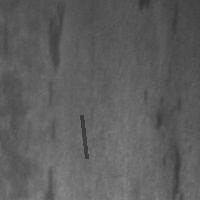inclusion: (147, 86, 189, 197), (1, 66, 33, 199), (39, 1, 67, 74), (39, 77, 59, 140), (40, 162, 57, 198), (79, 113, 88, 160), (169, 1, 182, 32), (46, 116, 59, 146)
